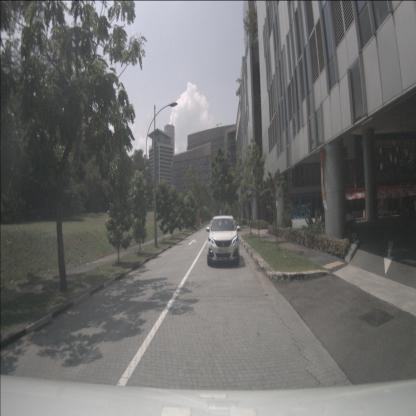cone: (388, 207, 392, 218), (363, 208, 366, 219), (362, 209, 365, 218)
